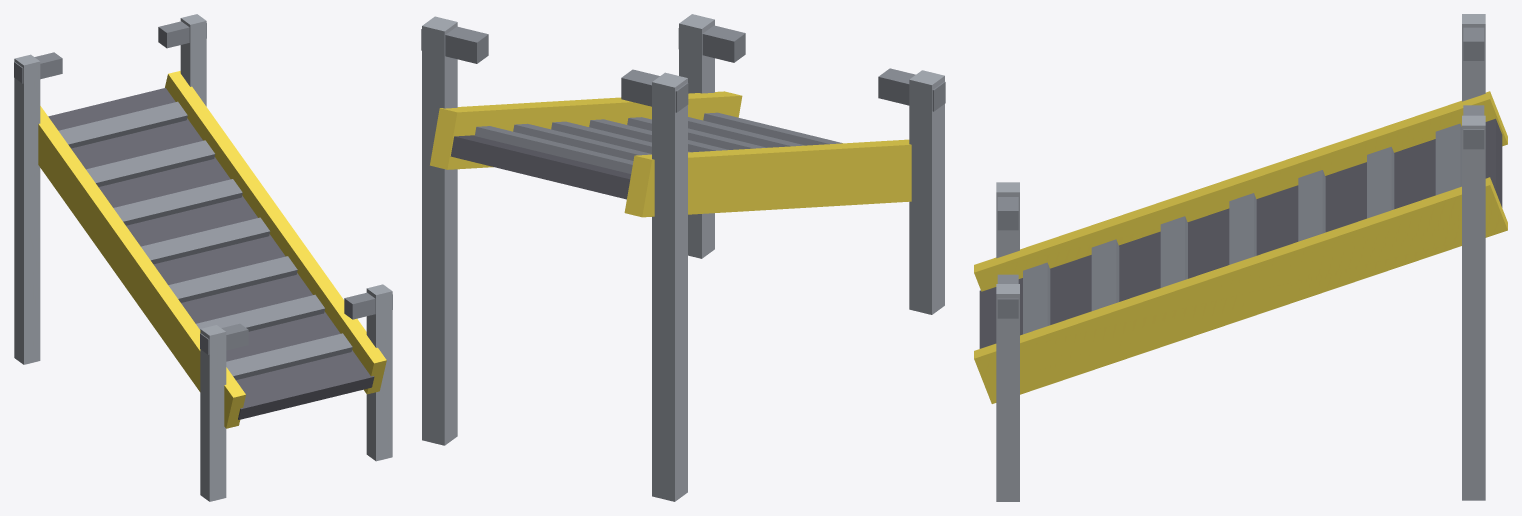
Rendered from conveyor_slope.glb.
3 renders of one model, left to right at view 1: azimuth 30°, elevation 25°; view 2: azimuth 150°, elevation 25°; view 3: azimuth 270°, elevation 25°, orthographic. The views are drawn at different scales.
Visible parts, largest first — view 1: conveyor_slope; view 2: conveyor_slope; view 3: conveyor_slope.
Boxes of the visible parts, x1,y1,x2,y2 form: conveyor_slope: [14, 14, 392, 501]; conveyor_slope: [421, 14, 945, 501]; conveyor_slope: [974, 14, 1507, 501].
Bounding box in the file's own units: 1 × 1.55 × 2.
